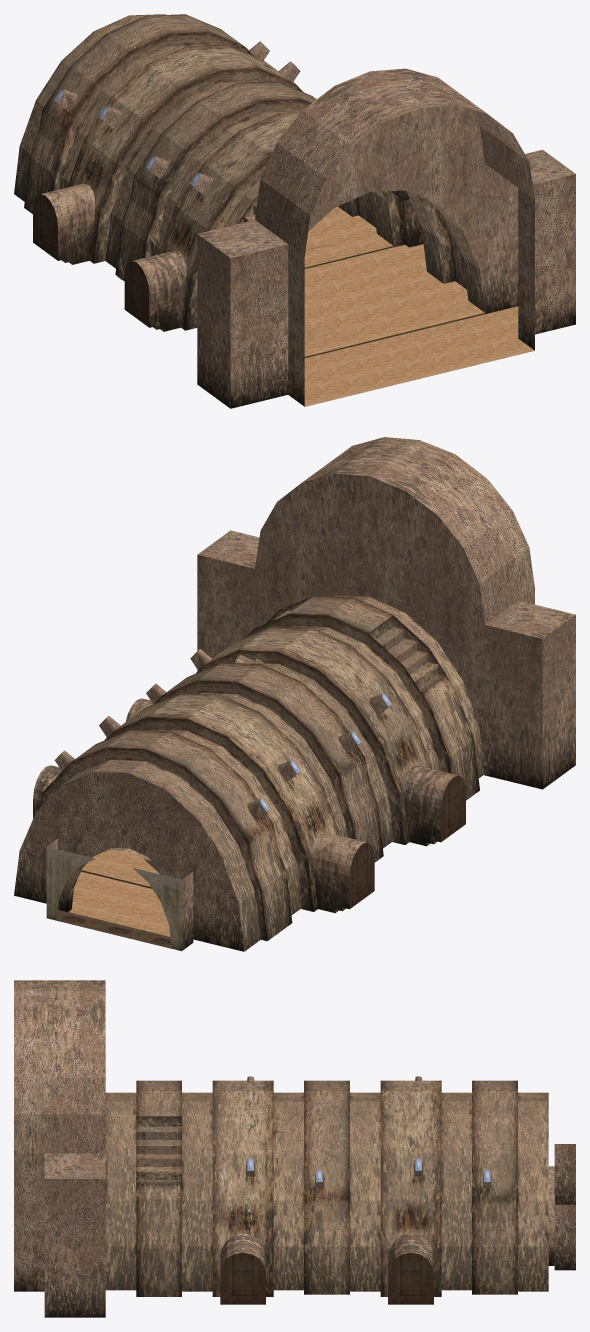
Rendered from thm_tato_jabbas_palace_r1_foyer_mesh_l0.fbx.
3 renders of one model, top to bottom at view 1: azimuth 30°, elevation 25°; view 2: azimuth 150°, elevation 25°; view 3: azimuth 270°, elevation 25°, orthographic. The views are drawn at different scales.
Visible parts, largest first — view 1: mesh_node; view 2: mesh_node; view 3: mesh_node.
Part boxes in pixels (x1,y1,x2,y2): mesh_node: [14, 14, 575, 408]; mesh_node: [14, 437, 575, 951]; mesh_node: [14, 980, 575, 1317].
Bounding box in the file's own units: 24 × 18 × 36.8.
